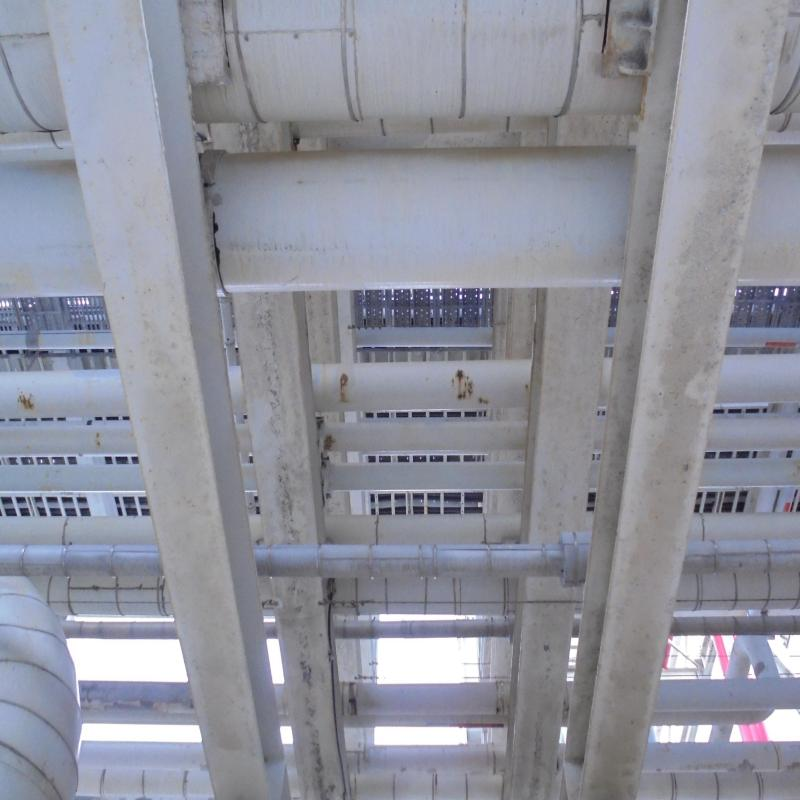corrosion: (455, 368, 474, 399), (338, 375, 349, 399), (20, 391, 32, 405)
